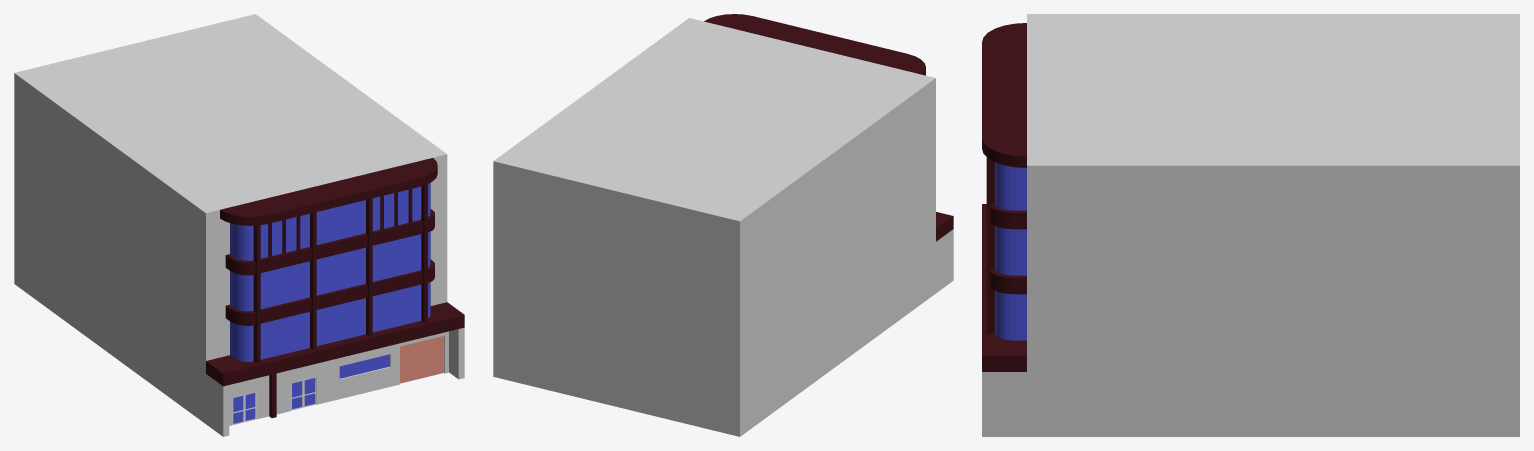
File: building33.fbx
3 views of the same model, side by side, from view 1: azimuth 30°, elevation 25°; view 2: azimuth 150°, elevation 25°; view 3: azimuth 270°, elevation 25° (orthographic). The views are drawn at different scales.
Parts seen in each view (by area): view 1: building22; view 2: building22; view 3: building22.
Boxes of the visible parts, bbox=[...] form: building22: bbox=[14, 14, 464, 436]; building22: bbox=[493, 14, 953, 436]; building22: bbox=[982, 14, 1519, 436].
Bounding box in the file's own units: 2000 × 1670 × 3000.
